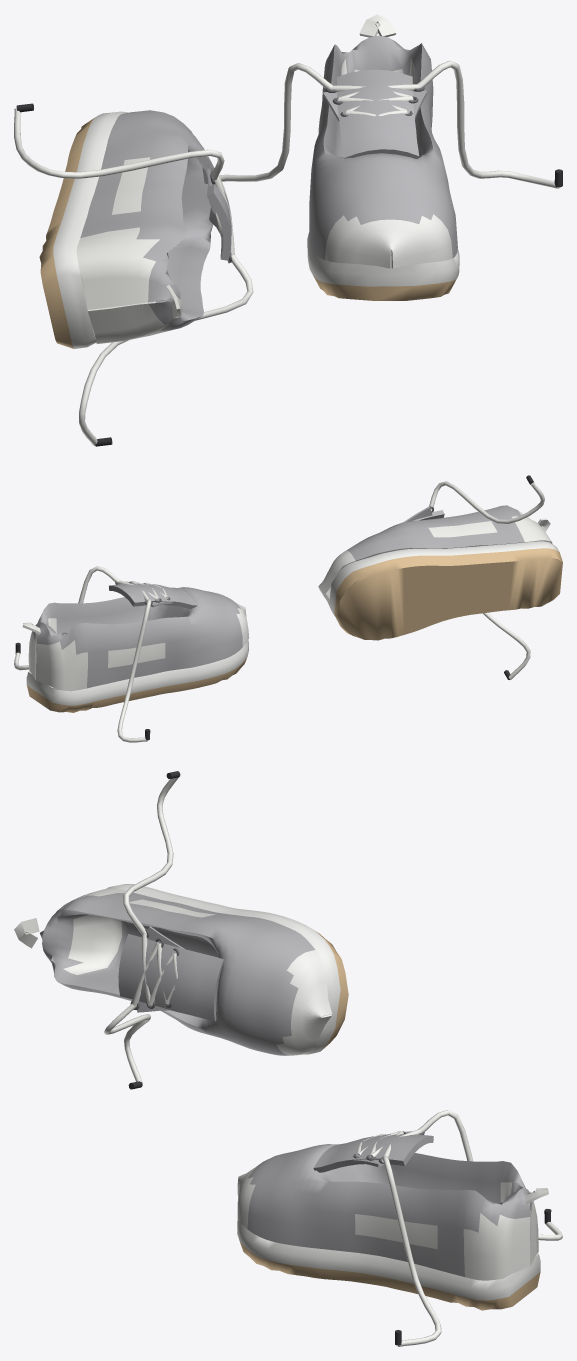
File: textiles_trainers_scattered.fbx
3 views of the same model, one above another, from view 1: azimuth 30°, elevation 25°; view 2: azimuth 150°, elevation 25°; view 3: azimuth 270°, elevation 25° (orthographic). The views are drawn at different scales.
Parts seen in each view (by area): view 1: textiles_trainers_scattered; view 2: textiles_trainers_scattered; view 3: textiles_trainers_scattered.
Boxes of the visible parts, x1=… form: textiles_trainers_scattered: x1=14, y1=14, x2=562, y2=446; textiles_trainers_scattered: x1=14, y1=475, x2=562, y2=742; textiles_trainers_scattered: x1=14, y1=771, x2=562, y2=1346.
Size of the model in its own units: 0.5846 by 0.2819 by 0.4708.
